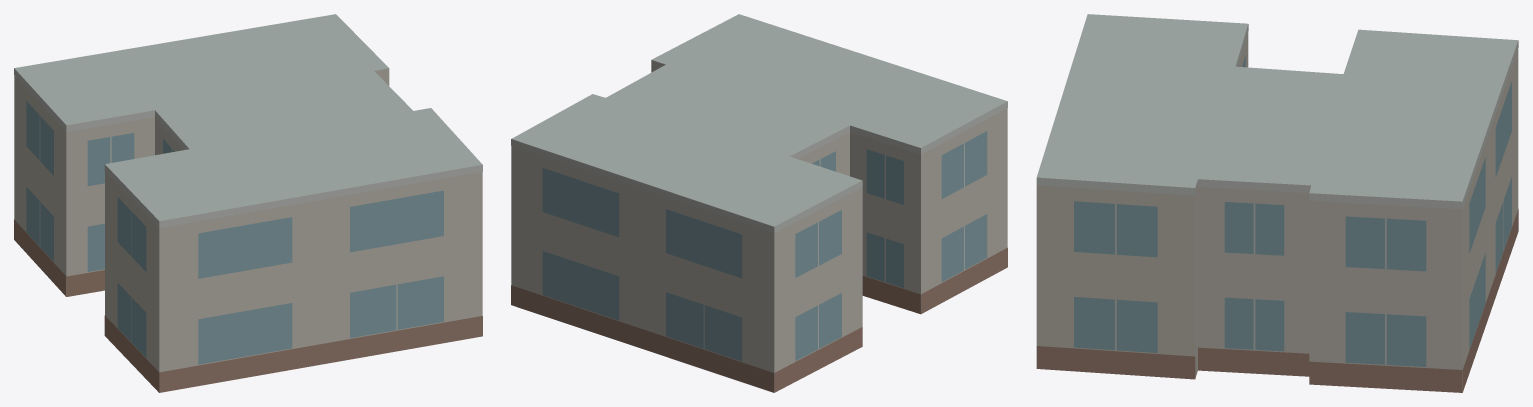
File: survey-upis-32990099.glb
3 views of the same model, side by side, from view 1: azimuth 30°, elevation 25°; view 2: azimuth 150°, elevation 25°; view 3: azimuth 270°, elevation 25° (orthographic). The views are drawn at different scales.
Parts seen in each view (by area): view 1: survey-upis-32990099.tmp; view 2: survey-upis-32990099.tmp; view 3: survey-upis-32990099.tmp.
Boxes of the visible parts, x1=… form: survey-upis-32990099.tmp: x1=14, y1=14, x2=482, y2=392; survey-upis-32990099.tmp: x1=511, y1=14, x2=1007, y2=392; survey-upis-32990099.tmp: x1=1036, y1=14, x2=1518, y2=392.
Bounding box in the file's own units: 12.84 × 6.1 × 13.93.
